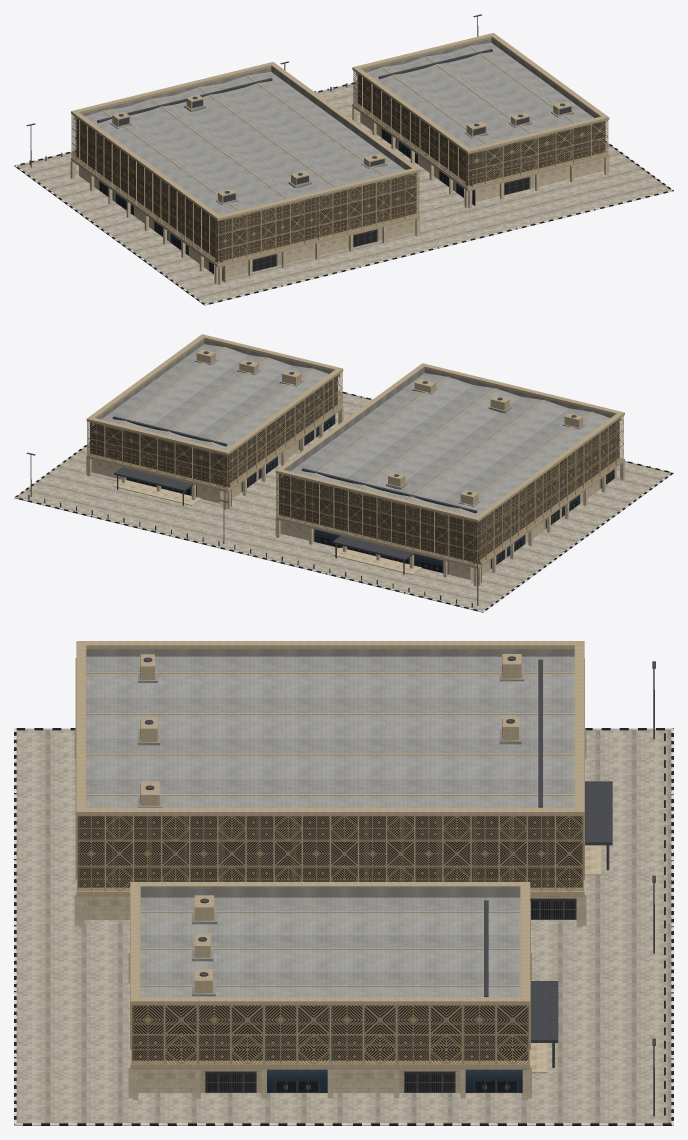
File: petitstade.glb
3 renders of one model, top to bottom at view 1: azimuth 30°, elevation 25°; view 2: azimuth 150°, elevation 25°; view 3: azimuth 270°, elevation 25°, orthographic. The views are drawn at different scales.
Visible parts, largest first — view 1: Roof_Seam, Facade_Screen, Paving, Facade_Inner, Metal_Light, Stone, Concrete, Entrance_Glazing, Kerb, Metal_Dark; view 2: Roof_Seam, Facade_Screen, Paving, Facade_Inner, Metal_Light, Stone, Concrete, Metal_Dark, Entrance_Glazing, Kerb; view 3: Roof_Seam, Paving, Facade_Screen, Facade_Inner, Metal_Light, Concrete, Stone, Entrance_Glazing, Metal_Dark, Kerb.
Part boxes in pixels (<box>): Roof_Seam: <box>85,43,593,215</box>; Facade_Screen: <box>71,70,608,264</box>; Paving: <box>17,83,670,303</box>; Facade_Inner: <box>76,75,605,262</box>; Metal_Light: <box>71,33,609,267</box>; Stone: <box>70,107,609,284</box>; Concrete: <box>74,38,603,220</box>; Entrance_Glazing: <box>97,127,533,282</box>; Kerb: <box>14,82,673,305</box>; Metal_Dark: <box>26,14,571,202</box>; Roof_Seam: <box>101,344,609,516</box>; Facade_Screen: <box>87,372,623,565</box>; Paving: <box>17,392,670,610</box>; Facade_Inner: <box>90,376,619,563</box>; Metal_Light: <box>86,334,624,568</box>; Stone: <box>86,409,624,586</box>; Concrete: <box>92,340,621,521</box>; Metal_Dark: <box>26,351,576,607</box>; Entrance_Glazing: <box>126,414,616,574</box>; Kerb: <box>14,391,673,612</box>; Roof_Seam: <box>86,656,574,996</box>; Paving: <box>16,730,671,1123</box>; Facade_Screen: <box>77,816,583,1064</box>; Facade_Inner: <box>78,816,582,1060</box>; Metal_Light: <box>75,641,584,1069</box>; Concrete: <box>86,649,574,996</box>; Stone: <box>74,728,601,1099</box>; Entrance_Glazing: <box>200,896,580,1092</box>; Metal_Dark: <box>140,656,665,1116</box>; Kerb: <box>14,728,673,1125</box>.
Bounding box in the file's own units: 104 × 14.94 × 73.
Materials: 10 (10 with a texture image).
